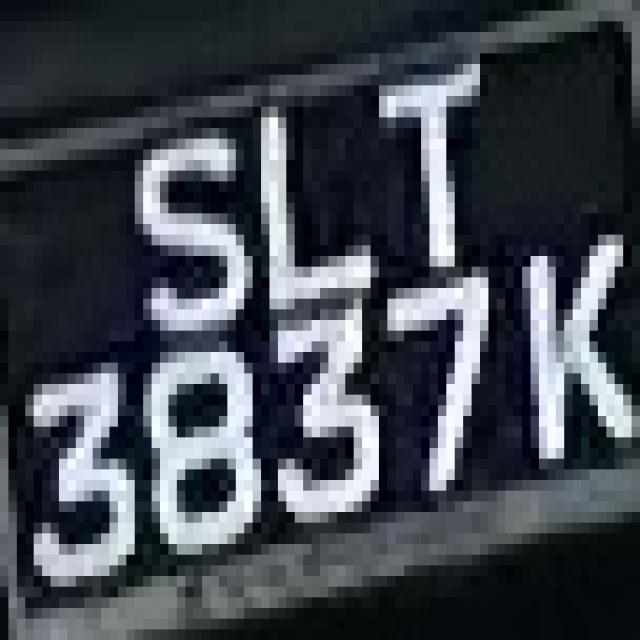3: (25, 331, 152, 618), (278, 245, 396, 544)
7: (379, 267, 505, 512)
8: (143, 341, 278, 587)
K: (505, 224, 623, 501)
L: (236, 86, 379, 310)
S: (101, 96, 236, 341)
T: (345, 75, 514, 266)
